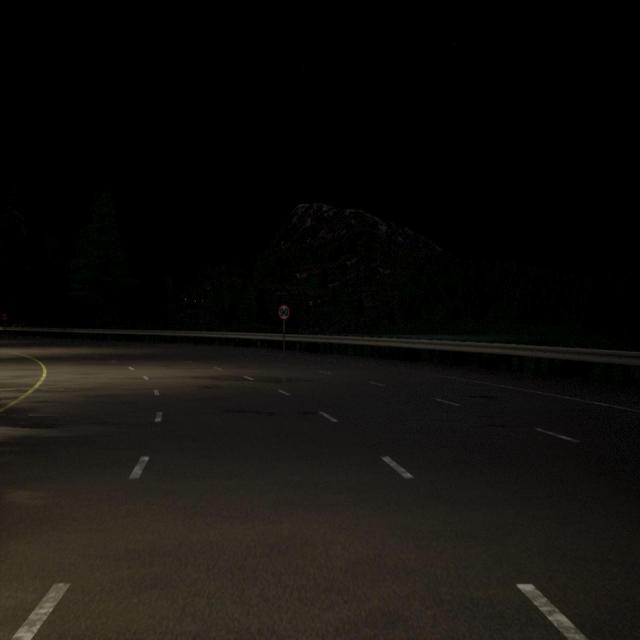Traffic_Signs: (278, 305, 290, 320)
